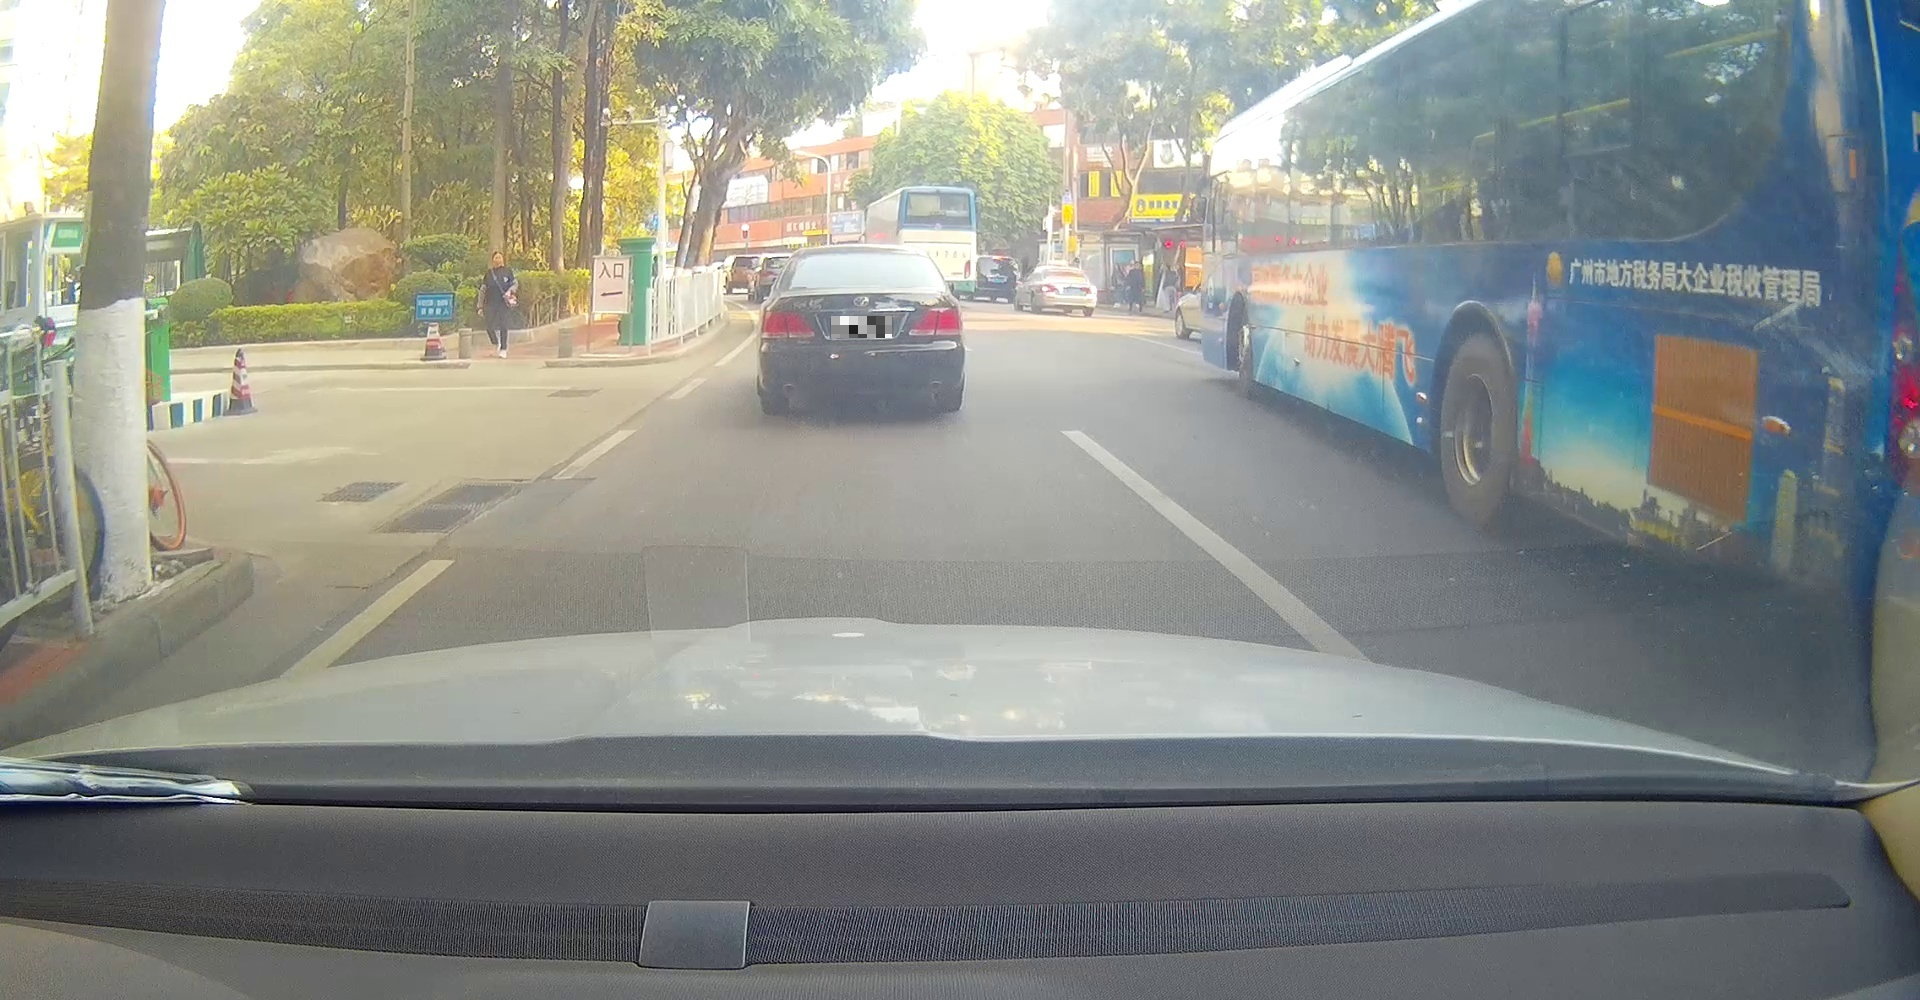L_light: (759, 310, 817, 338)
R_light: (908, 306, 963, 336)
T_light: (846, 284, 881, 288)
day-no: (757, 244, 966, 416)
plate_1: (830, 316, 891, 338)
